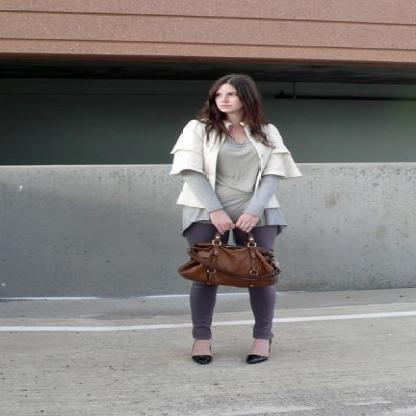bag: (178, 225, 281, 287)
jacket: (170, 120, 300, 207)
pants: (182, 219, 285, 341)
shirt: (178, 134, 285, 235)
shoe: (192, 354, 268, 364)
